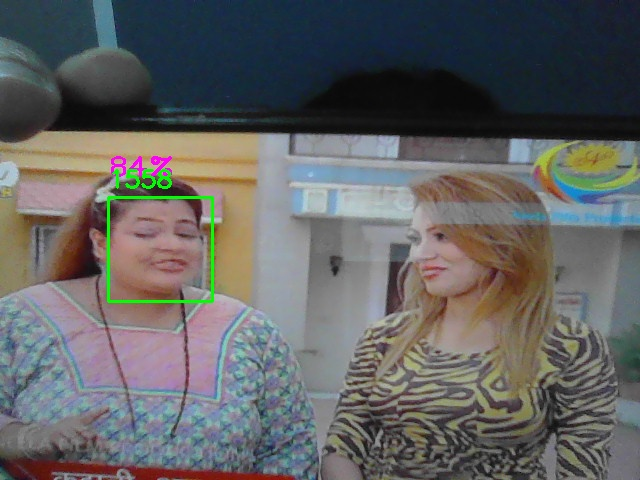fake: (108, 197, 213, 302)
